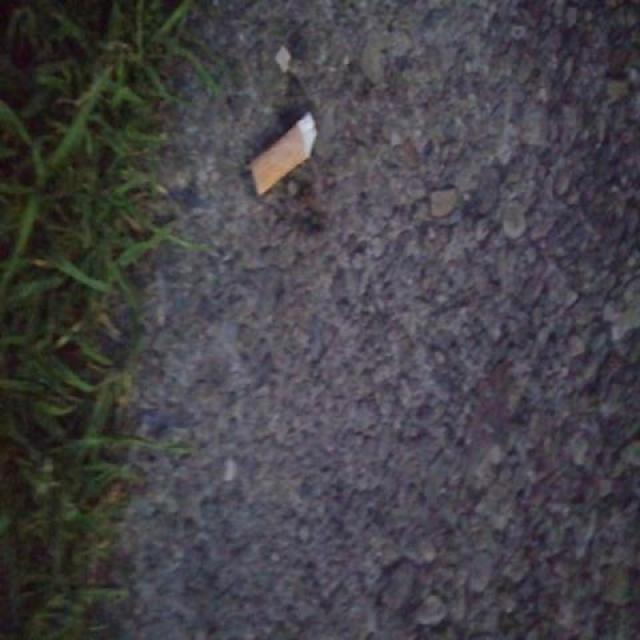non-organic waste: (244, 108, 320, 201)
